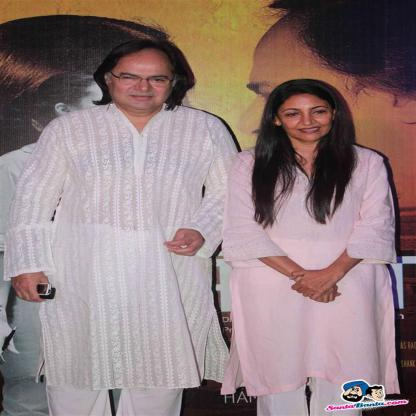face: (111, 53, 173, 110), (279, 96, 333, 142)
